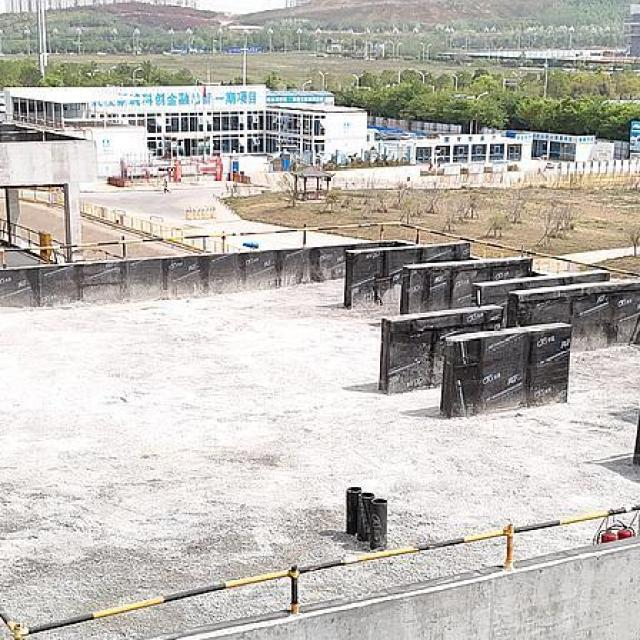edge_guardrail: (0, 503, 640, 640), (0, 219, 640, 278), (9, 222, 41, 248), (51, 236, 66, 264), (0, 218, 9, 239)
